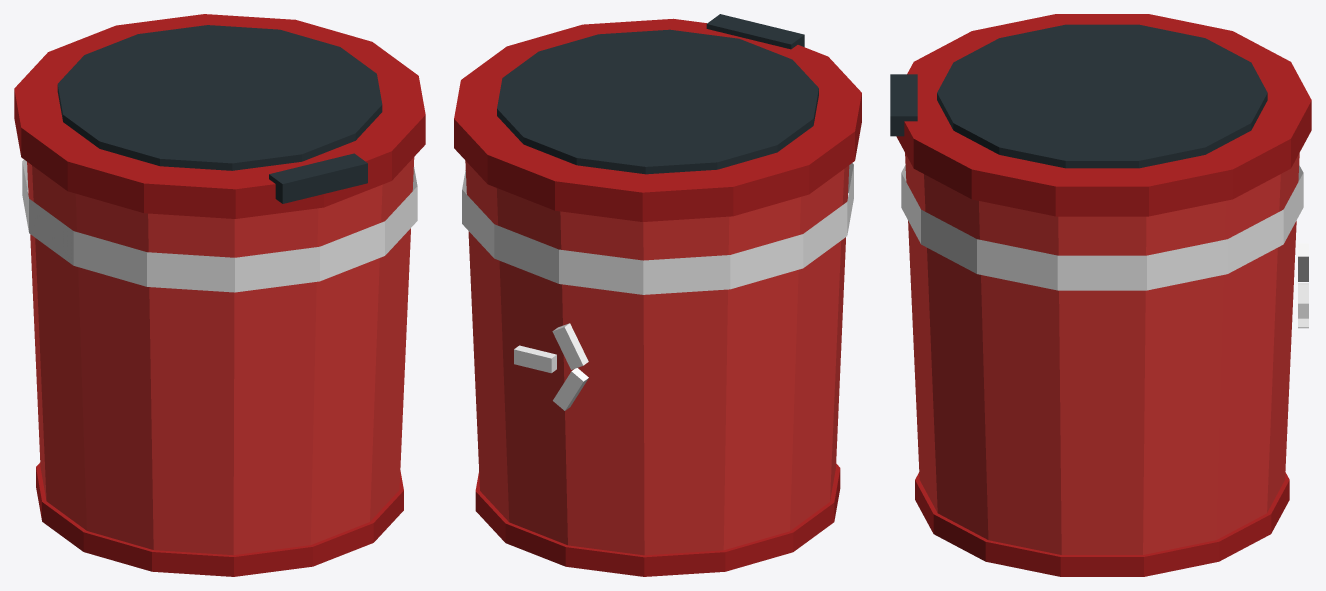
Rendered from Cop_Kutusu.fbx.
The picture shows the model from 3 angles, left to right: view 1: azimuth 30°, elevation 25°; view 2: azimuth 150°, elevation 25°; view 3: azimuth 270°, elevation 25°; orthographic projection.
Visible parts, largest first — view 1: Cop_Kutusu; view 2: Cop_Kutusu; view 3: Cop_Kutusu.
Boxes of the visible parts, box(x1,y1,x2,y2) form: Cop_Kutusu: box(14, 14, 425, 576); Cop_Kutusu: box(454, 14, 861, 576); Cop_Kutusu: box(890, 14, 1311, 576).
Bounding box in the file's own units: 74.09 × 81.5 × 76.5.
